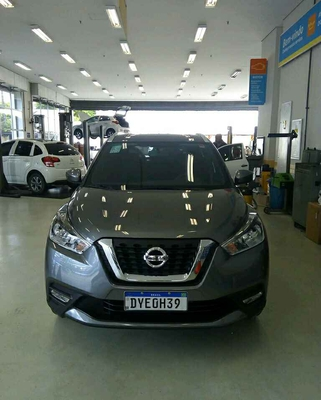Frontal Veiculo: (45, 137, 269, 329)
